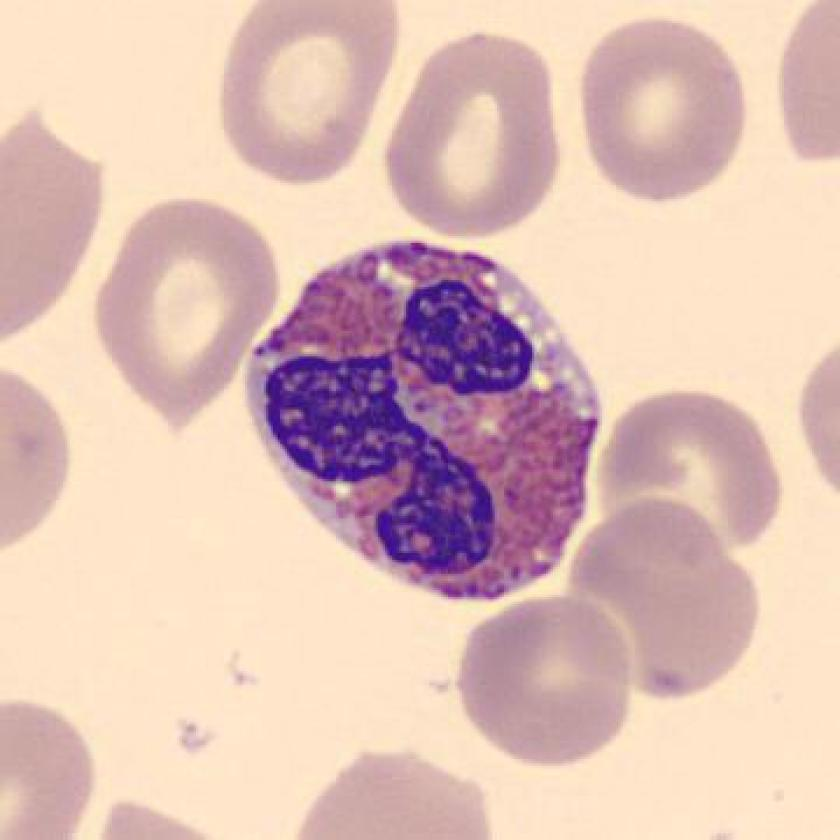eosinophil: (228, 223, 620, 614)
